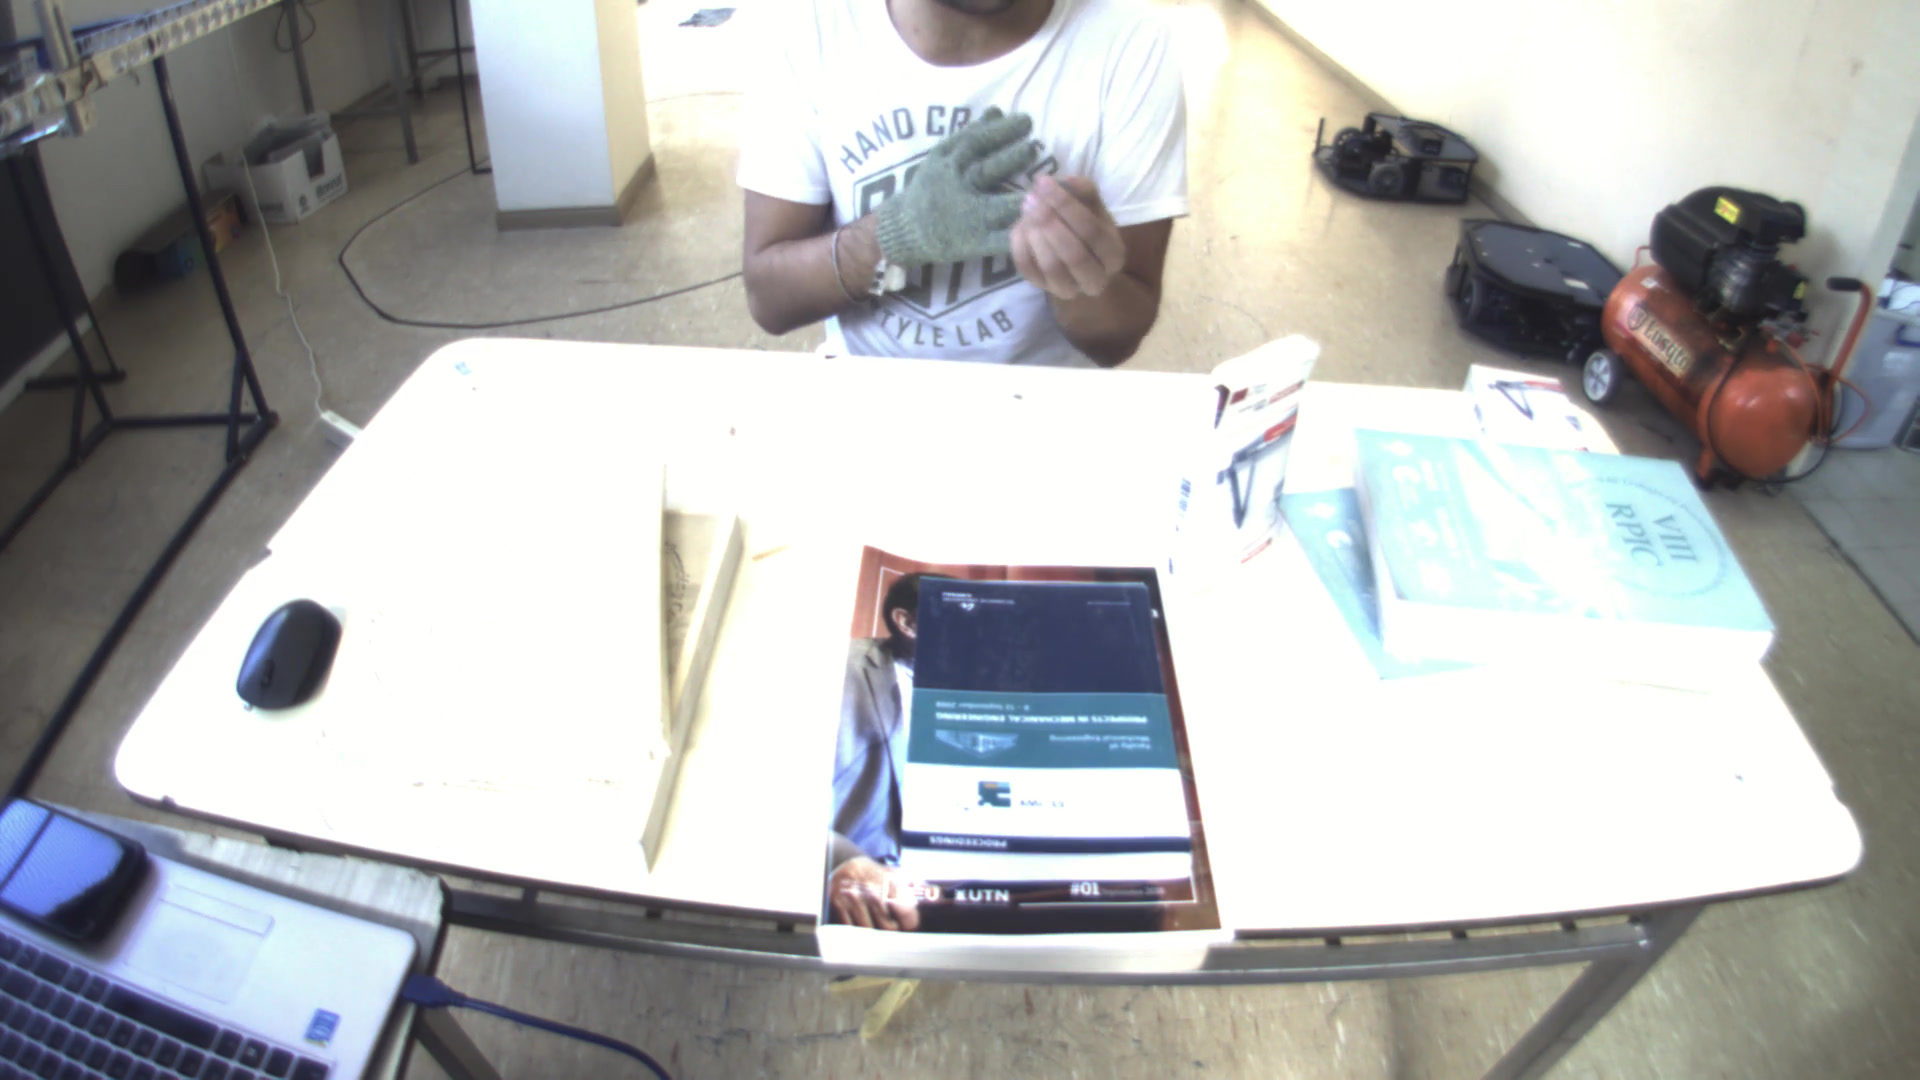hand: (858, 102, 1056, 274), (1002, 165, 1138, 291)
